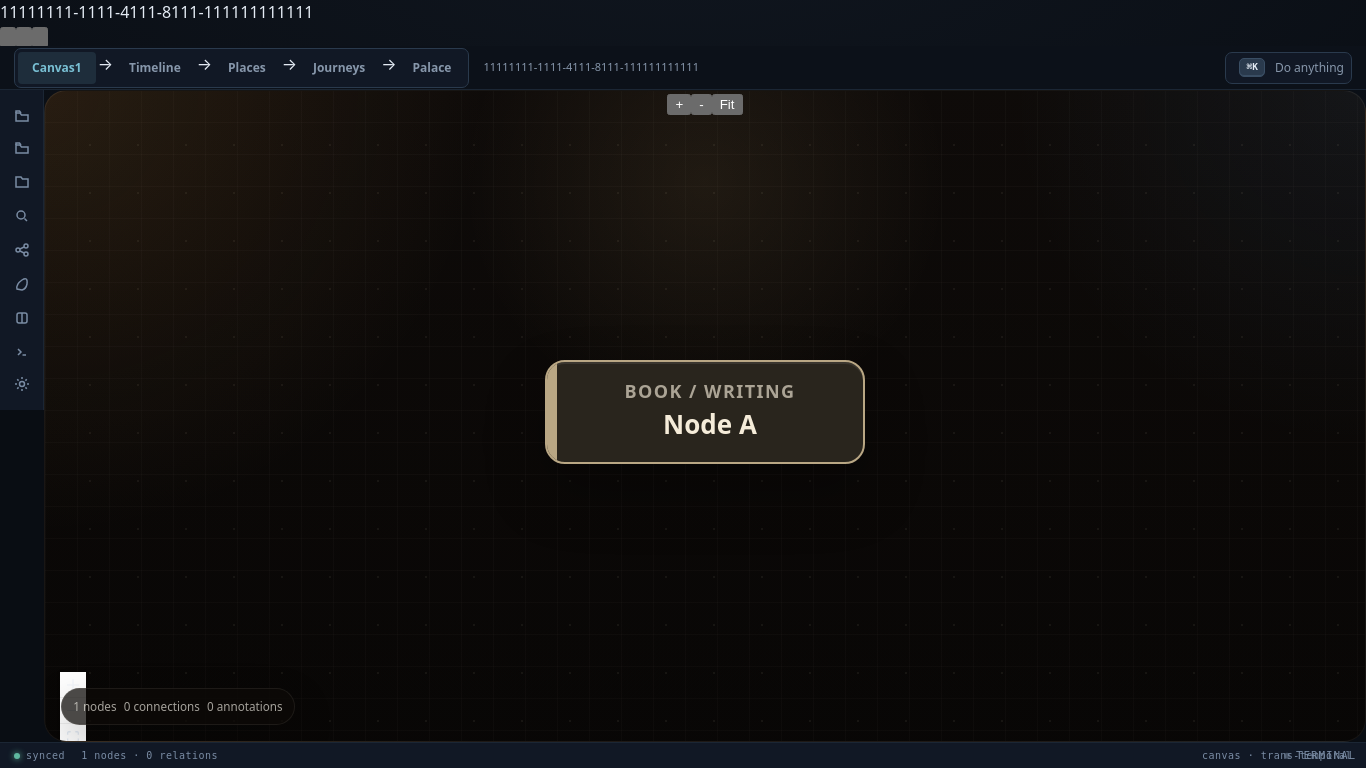
Test: Shell frame › hides the right inspector while the inline reader is open, and restores it after closing
Click the element with class "react-flow__node": (705, 440) [545, 360, 865, 520]
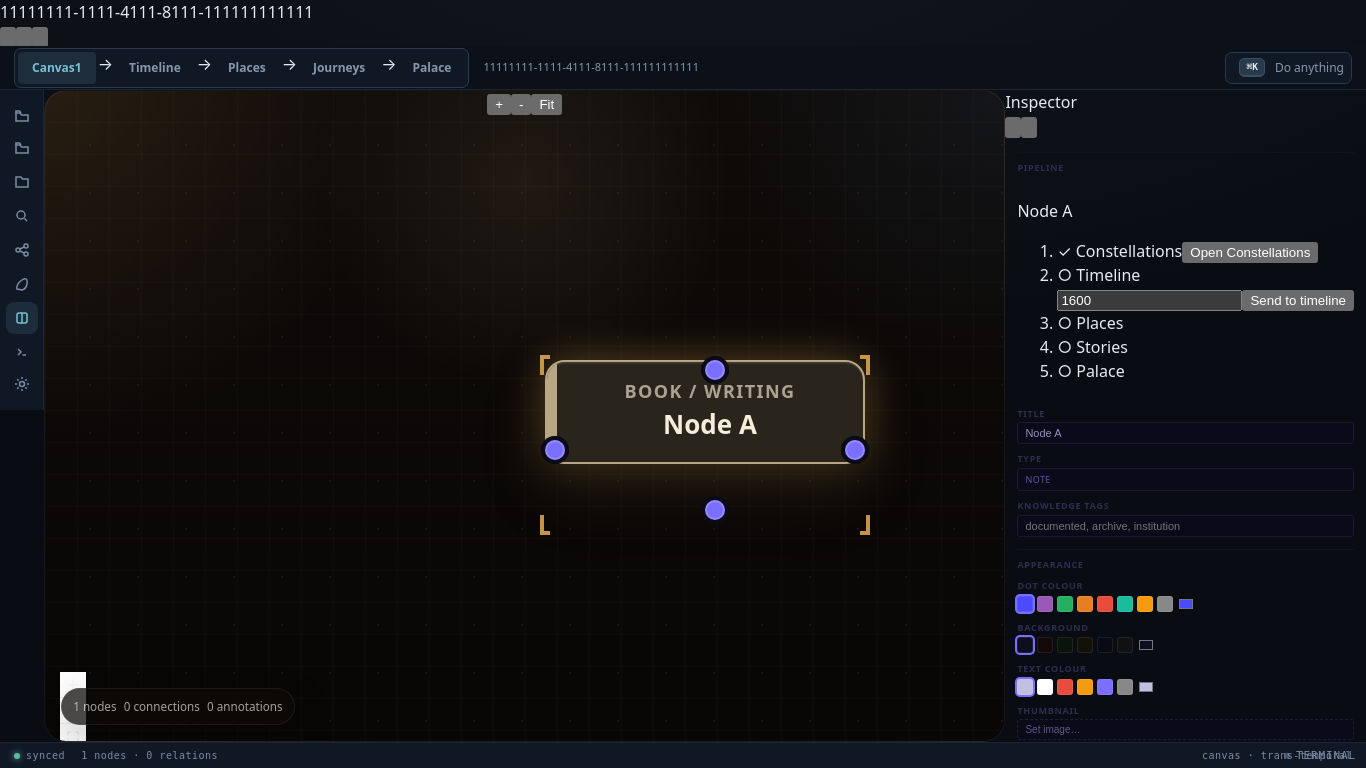
Now the element with test id "shell-right-inspector" is shown, box [1005, 90, 1365, 742]
Double-click the element with class "react-flow__node": (705, 440) [545, 360, 865, 520]
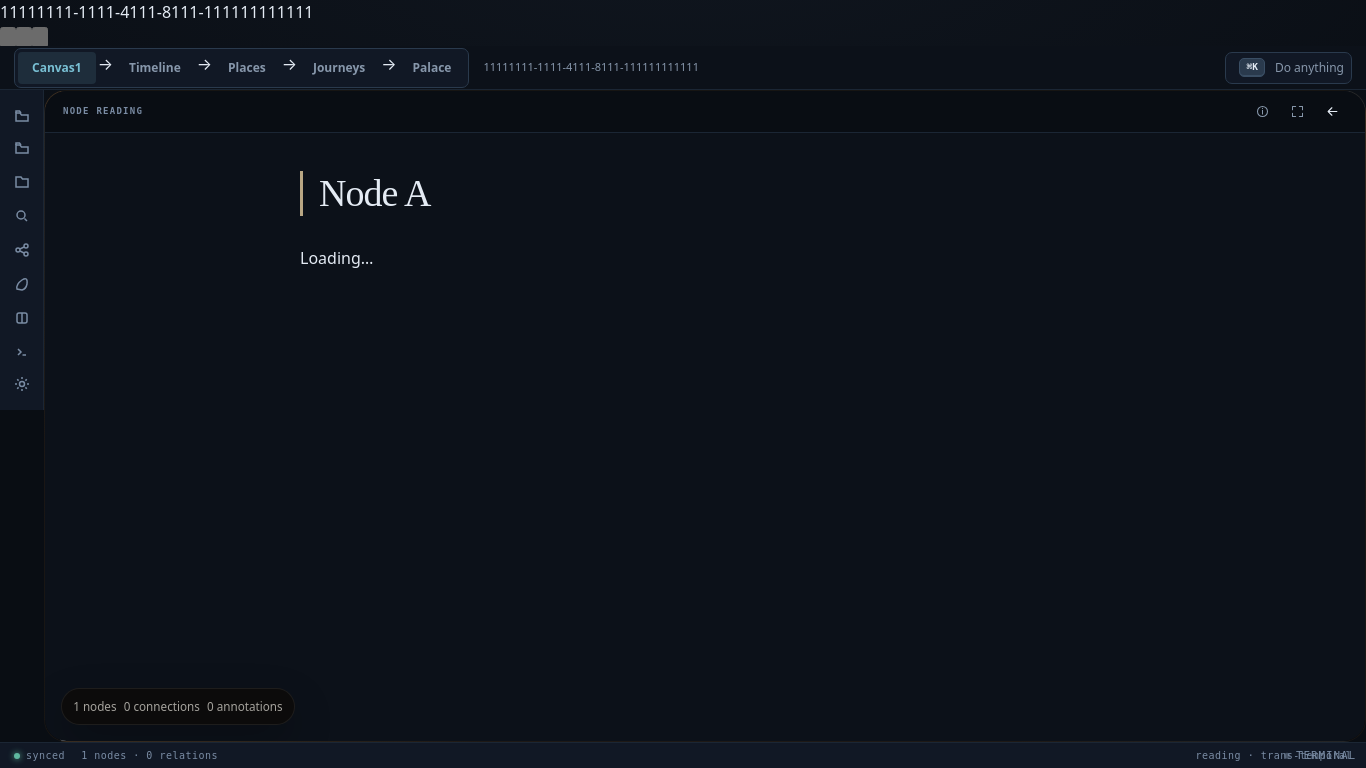
Now the element with test id "shell-right-inspector" is gone
Click the button named "Back to canvas": (1332, 112) [1317, 96, 1347, 126]
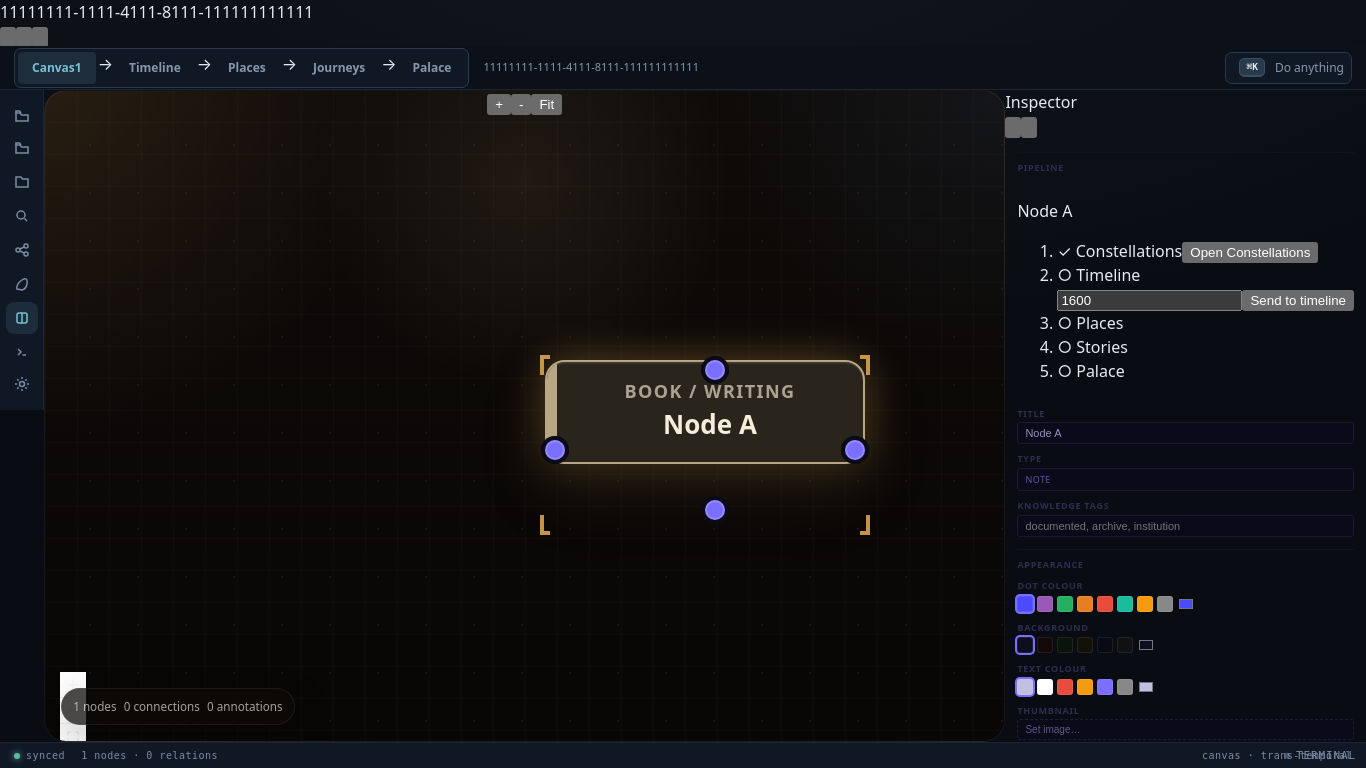
Now the element with test id "shell-right-inspector" is shown, box [1005, 90, 1365, 742]
